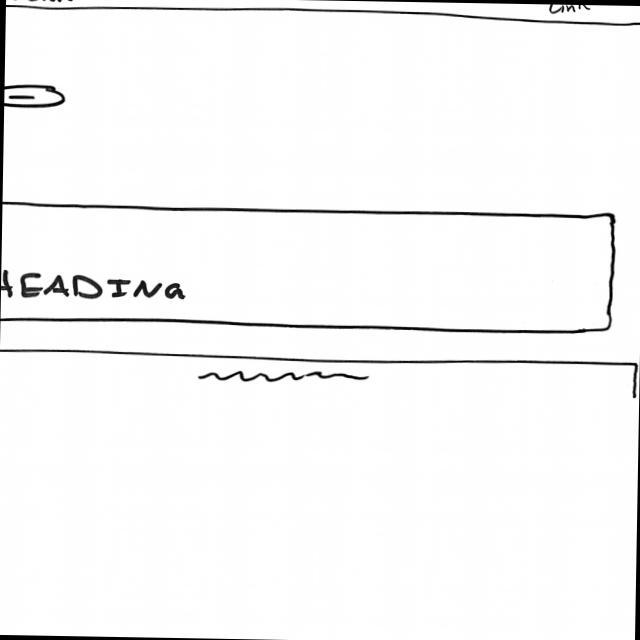container: (1, 201, 619, 337), (6, 1, 640, 26)
icon-button: (5, 85, 67, 111)
label: (1, 265, 191, 303), (546, 5, 597, 17), (6, 1, 77, 4)
text: (197, 369, 373, 386)
